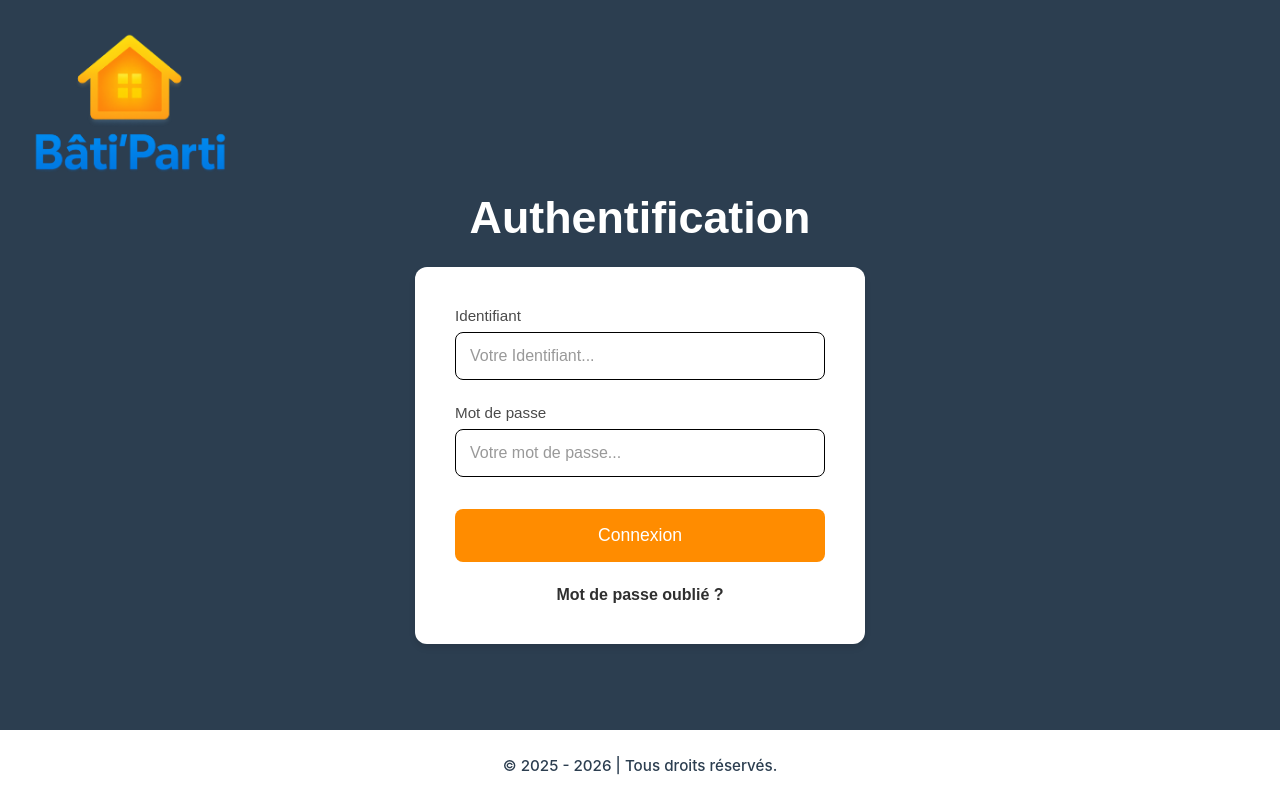
Test: Page de connexion › affiche un message d'erreur si mot de passe vide
# Rempli les champs identifiants et mot de passe avec des valeurs de tests
Type "fakeUser" into the field with placeholder "Votre Identifiant...". click: point(640, 356)
box: [455,332,825,380]
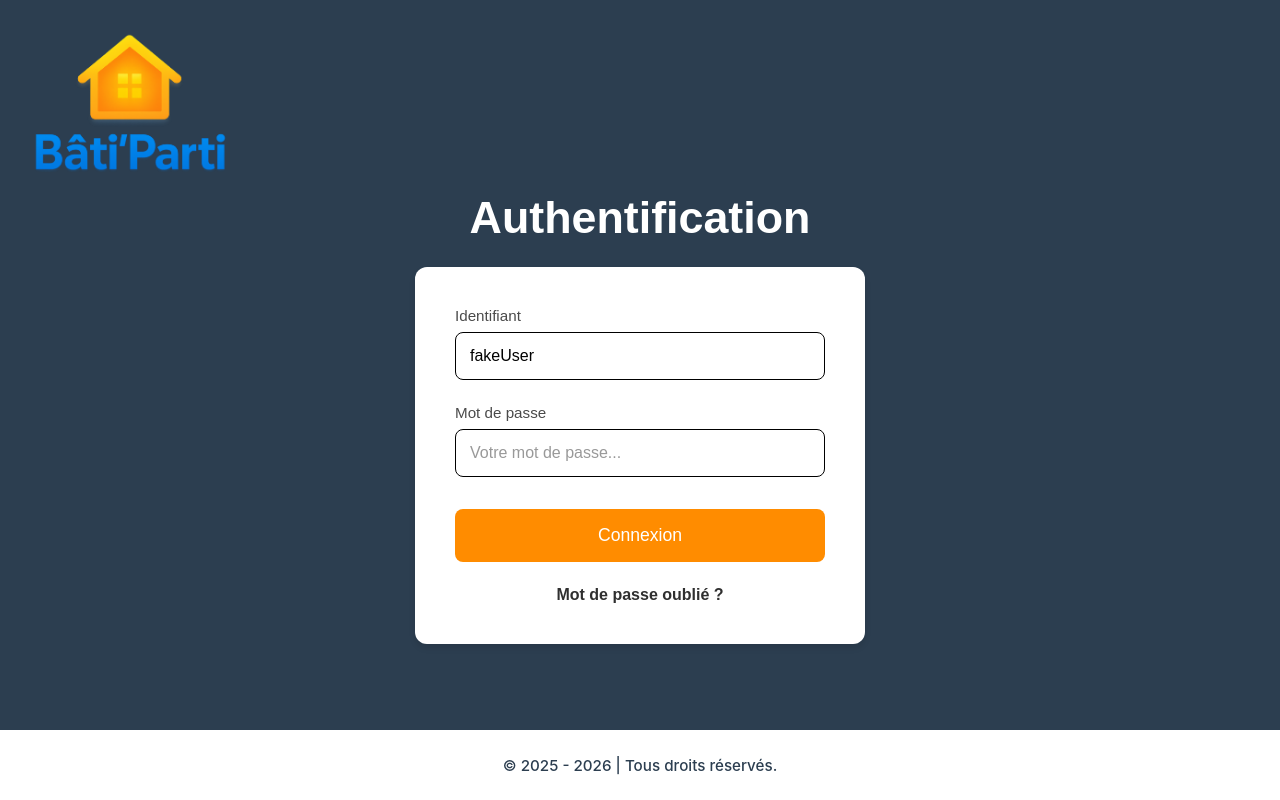
# Simule un click sur le bouton connexion
Click the button "Connexion". click: point(640, 536)
box: [455,509,825,562]
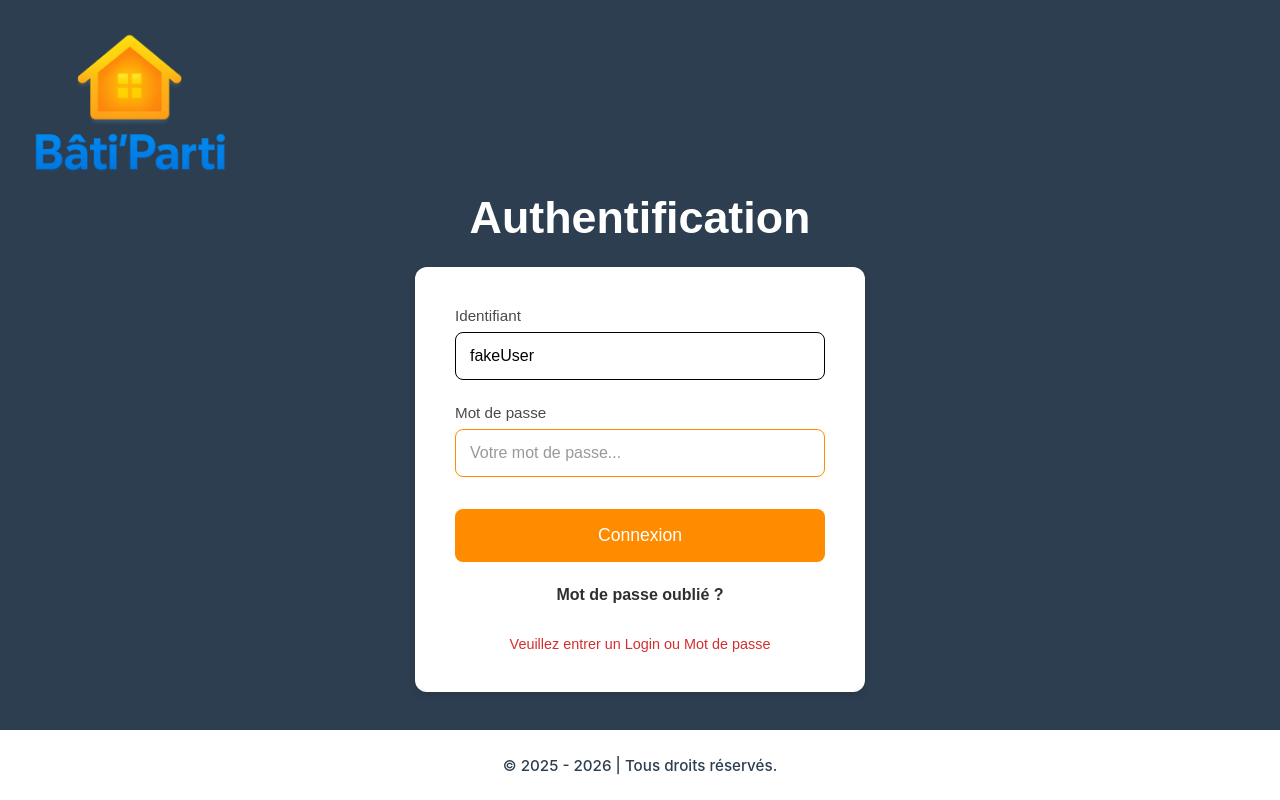
Result: the text "Veuillez entrer un Login ou Mot de passe" is shown at [510,636,770,652]
